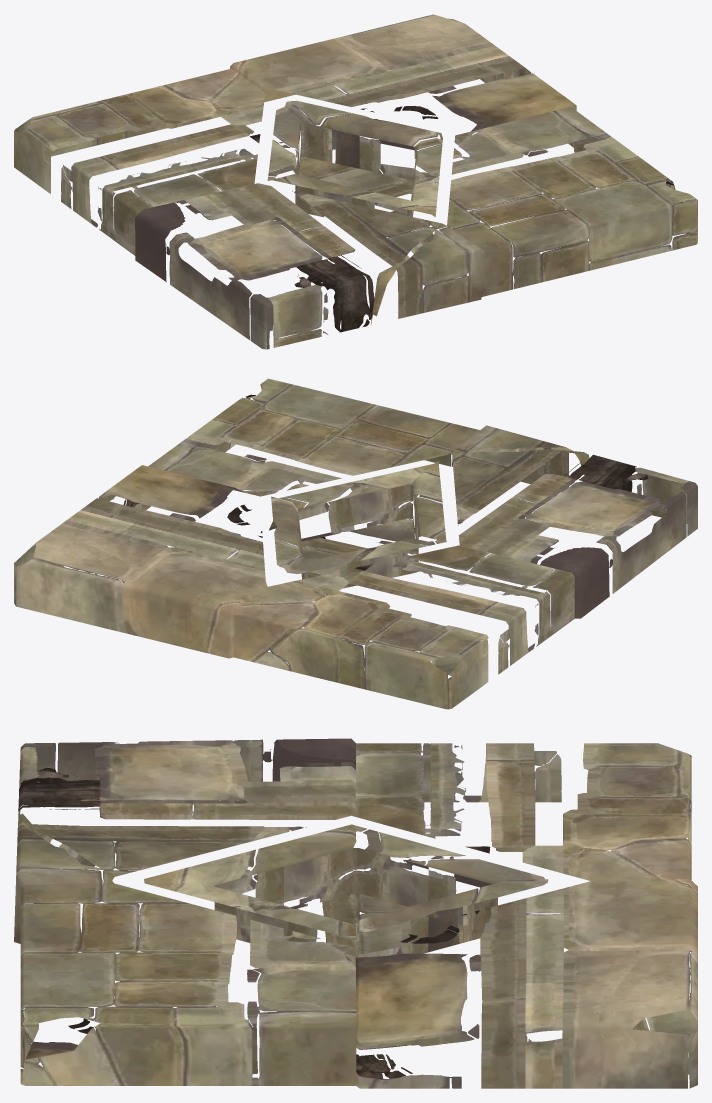
The picture shows the model from 3 angles, top to bottom: view 1: azimuth 30°, elevation 25°; view 2: azimuth 150°, elevation 25°; view 3: azimuth 270°, elevation 25°; orthographic projection. The views are drawn at different scales.
Parts seen in each view (by area): view 1: SM_Fireplace_01_LOD0; view 2: SM_Fireplace_01_LOD0; view 3: SM_Fireplace_01_LOD0.
Part boxes in pixels (x1,y1,x2,y2): SM_Fireplace_01_LOD0: (14,14,697,349); SM_Fireplace_01_LOD0: (14,378,697,709); SM_Fireplace_01_LOD0: (14,738,697,1088).
Bounding box in the file's own units: 1.02 × 0.1104 × 1.02.
